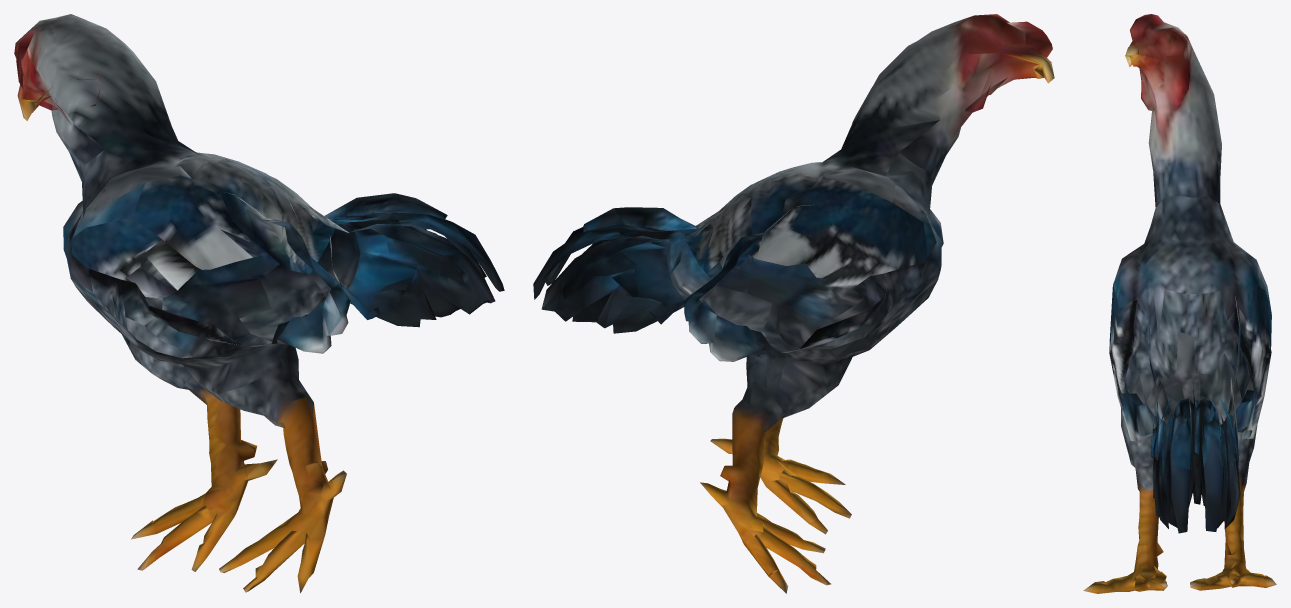
Rendered from rooster.glb.
3 renders of one model, left to right at view 1: azimuth 30°, elevation 25°; view 2: azimuth 150°, elevation 25°; view 3: azimuth 270°, elevation 25°, orthographic. The views are drawn at different scales.
Parts seen in each view (by area): view 1: rooster; view 2: rooster; view 3: rooster.
Boxes of the visible parts, box(x1,y1,x2,y2) form: rooster: box(14, 14, 504, 593); rooster: box(533, 14, 1054, 593); rooster: box(1083, 14, 1276, 593).
Size of the model in its own units: 0.4598 by 0.5217 by 0.1808.
Materials: 1 (1 with a texture image).
